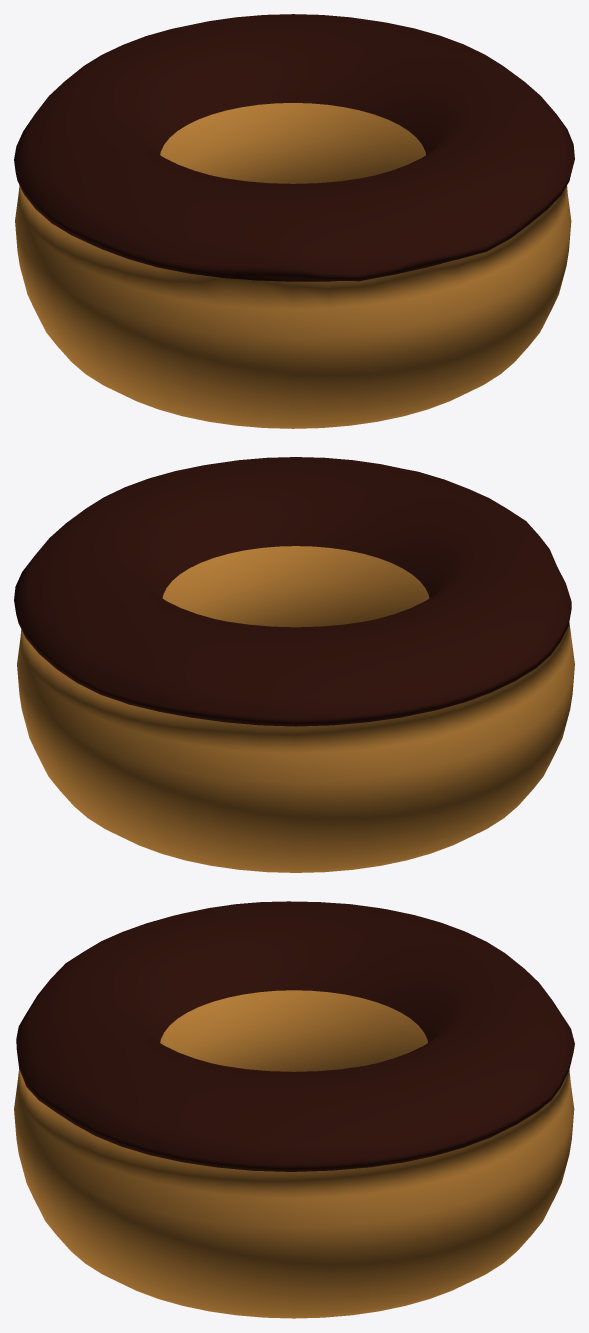
File: donut.fbx
3 renders of one model, top to bottom at view 1: azimuth 30°, elevation 25°; view 2: azimuth 150°, elevation 25°; view 3: azimuth 270°, elevation 25°, orthographic.
Visible parts, largest first — view 1: donut; view 2: donut; view 3: donut.
Part boxes in pixels (x1,y1,x2,y2): donut: (14,14,574,428); donut: (14,457,574,872); donut: (14,901,574,1318).
Bounding box in the file's own units: 6.92 × 6.88 × 3.19.
